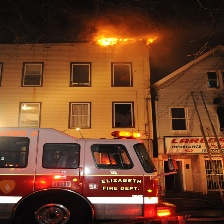fire: (96, 35, 164, 48)
smoke: (80, 1, 224, 33)
